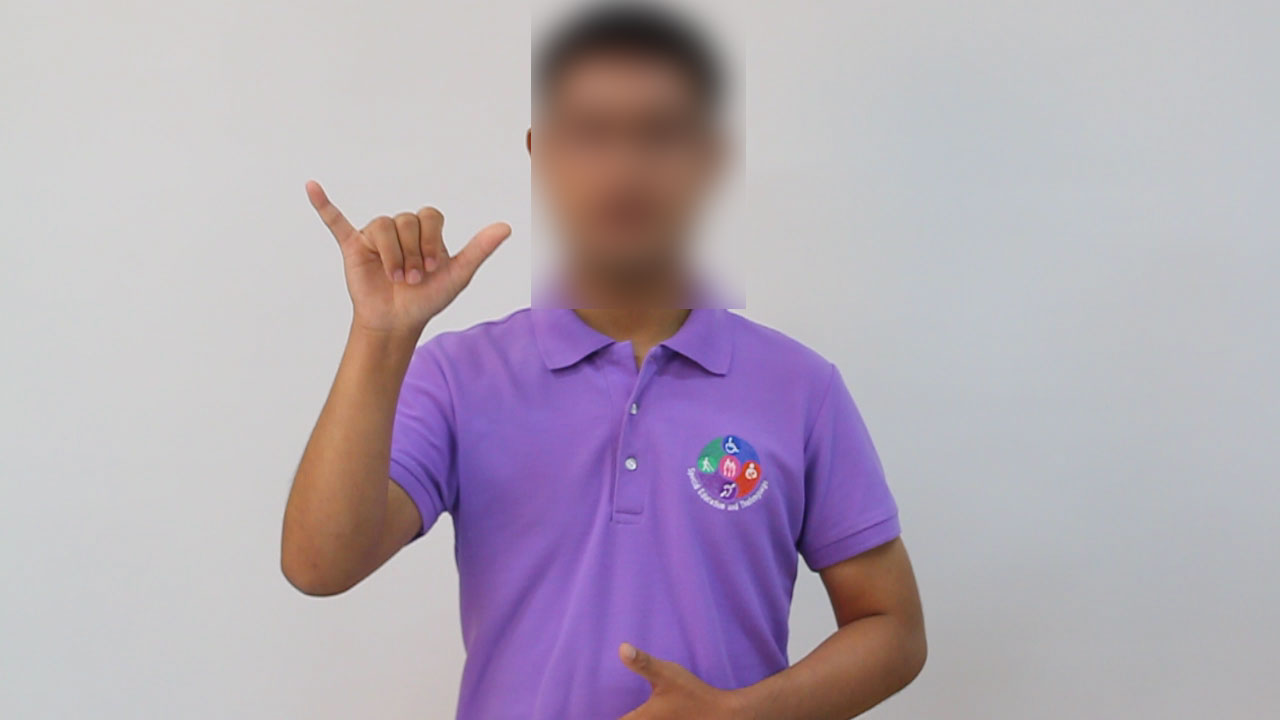yor: (289, 169, 522, 351)
